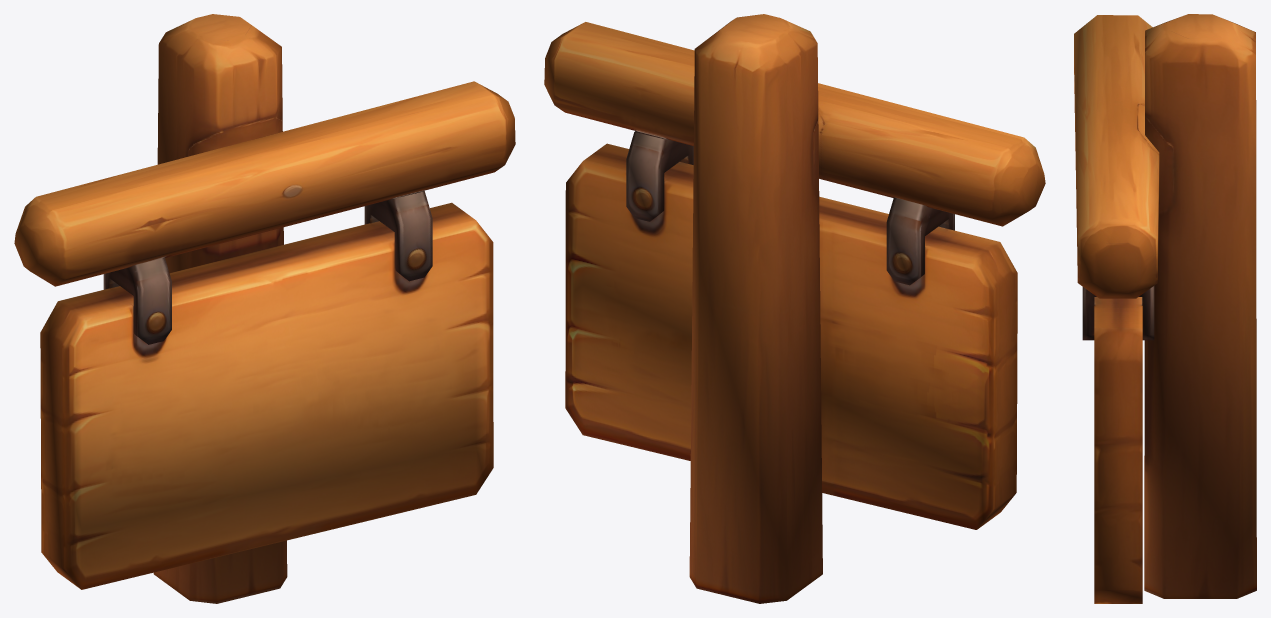
File: owner.glb
3 renders of one model, left to right at view 1: azimuth 30°, elevation 25°; view 2: azimuth 150°, elevation 25°; view 3: azimuth 270°, elevation 25°, orthographic.
Visible parts, largest first — view 1: owner; view 2: owner; view 3: owner.
Boxes of the visible parts, x1,y1,x2,y2 form: owner: (14, 14, 515, 603); owner: (544, 14, 1045, 603); owner: (1074, 14, 1256, 603).
Size of what is drawn, in the model's own units: 1.72 by 1.88 by 0.5674.
1 material, 1 textured.
